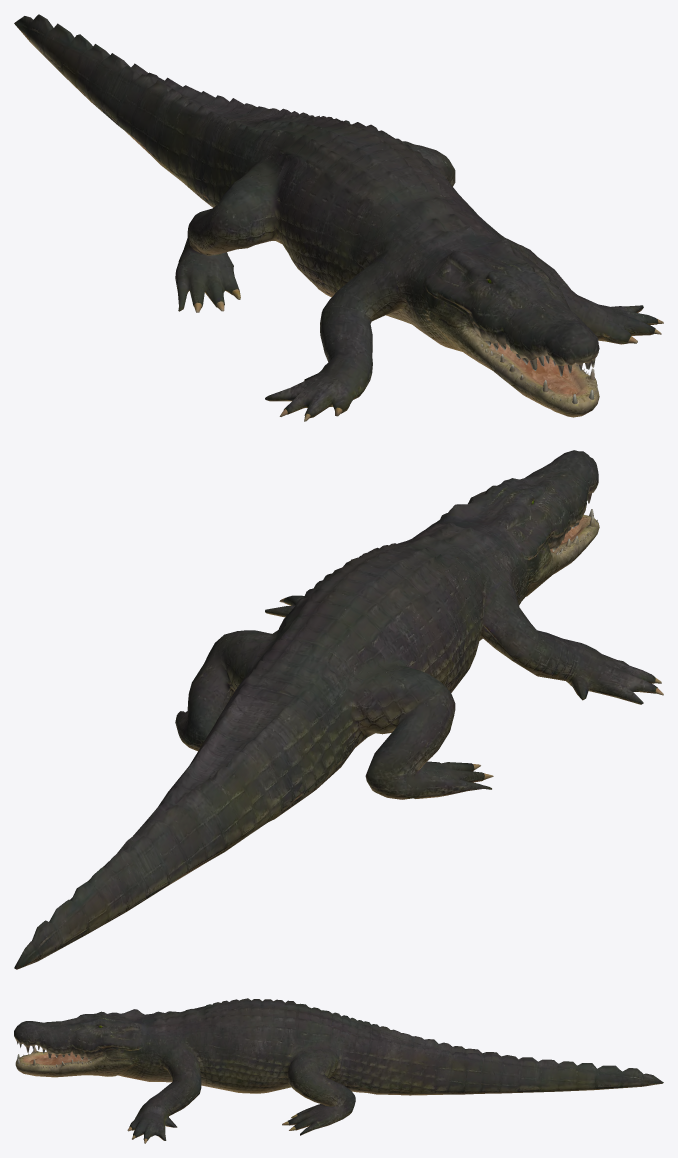
File: croc.glb
3 renders of one model, top to bottom at view 1: azimuth 30°, elevation 25°; view 2: azimuth 150°, elevation 25°; view 3: azimuth 270°, elevation 25°, orthographic. The views are drawn at different scales.
Parts seen in each view (by area): view 1: Crocodile; view 2: Crocodile; view 3: Crocodile.
Part boxes in pixels (x1=…): Crocodile: x1=14, y1=14, x2=663, y2=421; Crocodile: x1=14, y1=450, x2=663, y2=969; Crocodile: x1=14, y1=998, x2=663, y2=1143.
Bounding box in the file's own units: 29.1 × 11.33 × 75.12.
1 material, 1 textured.
